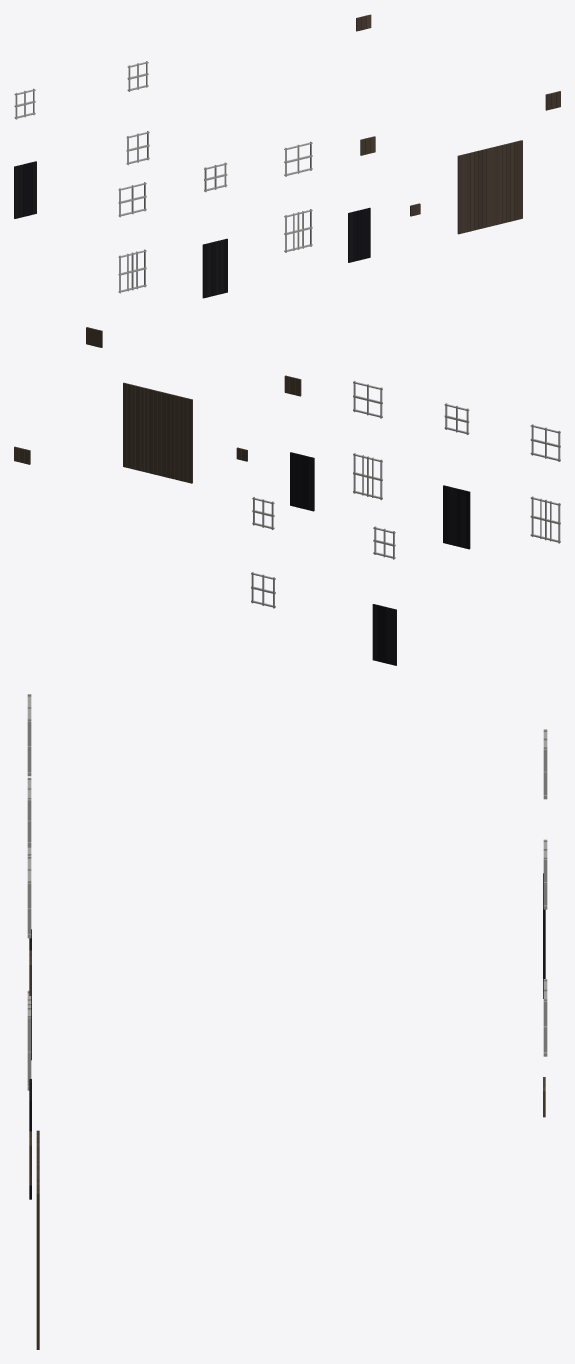
File: SM_Bld_158_Wood.glb
The picture shows the model from 3 angles, top to bottom: view 1: azimuth 30°, elevation 25°; view 2: azimuth 150°, elevation 25°; view 3: azimuth 270°, elevation 25°; orthographic projection. The views are drawn at different scales.
Visible parts, largest first — view 1: SM_Bld_158_Wood; view 2: SM_Bld_158_Wood; view 3: SM_Bld_158_Wood.
Part boxes in pixels (x1,y1,x2,y2): SM_Bld_158_Wood: [14, 14, 560, 298]; SM_Bld_158_Wood: [14, 327, 560, 665]; SM_Bld_158_Wood: [27, 694, 547, 1349].
Bounding box in the file's own units: 17.76 × 5 × 9.04.
